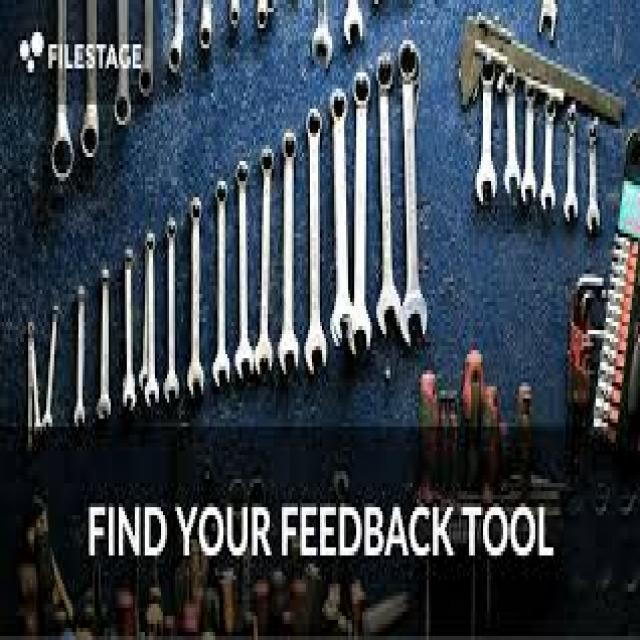wrench: (394, 39, 430, 349), (346, 67, 374, 361), (374, 46, 400, 347), (302, 107, 330, 374), (276, 129, 302, 384), (330, 80, 350, 354), (234, 156, 256, 390), (254, 145, 275, 379), (185, 190, 207, 402), (211, 178, 232, 398), (161, 213, 184, 410), (473, 59, 499, 208), (120, 246, 140, 417), (500, 66, 522, 206), (144, 231, 161, 408), (540, 94, 558, 218), (584, 124, 604, 235), (562, 108, 580, 225), (309, 0, 336, 74), (522, 81, 538, 202), (342, 0, 365, 50)
